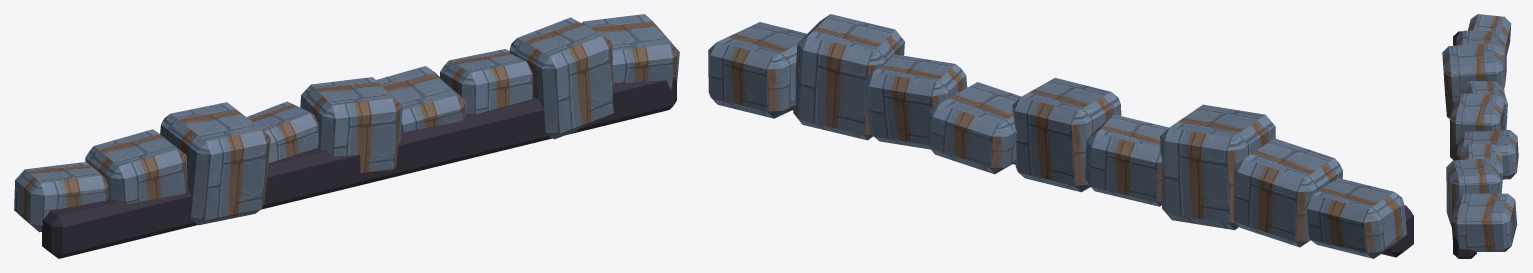
Rendered from cliff_edge.glb.
3 views of the same model, side by side, from view 1: azimuth 30°, elevation 25°; view 2: azimuth 150°, elevation 25°; view 3: azimuth 270°, elevation 25° (orthographic). The views are drawn at different scales.
Visible parts, largest first — view 1: landmark_cliff_edge; view 2: landmark_cliff_edge; view 3: landmark_cliff_edge.
Part boxes in pixels (x1,y1,x2,y2): landmark_cliff_edge: [14, 14, 679, 258]; landmark_cliff_edge: [708, 14, 1413, 258]; landmark_cliff_edge: [1442, 14, 1518, 258].
Size of the model in its own units: 8.72 by 1.2 by 1.34.
2 materials, 1 textured.
